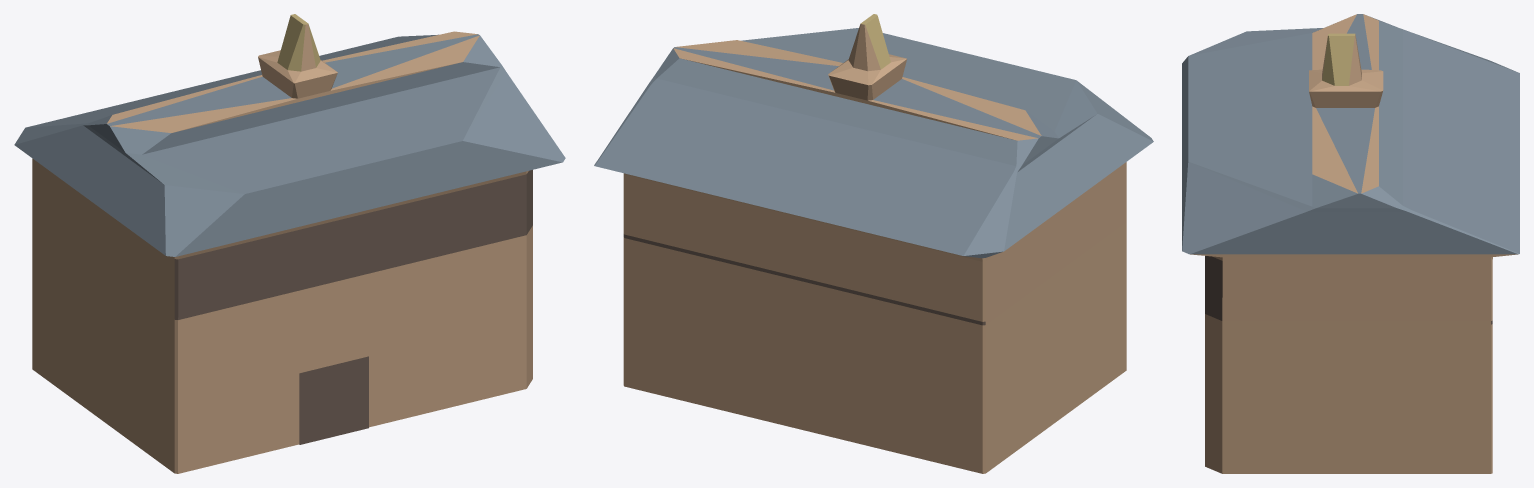
The model's file is loin.glb.
3 renders of one model, left to right at view 1: azimuth 30°, elevation 25°; view 2: azimuth 150°, elevation 25°; view 3: azimuth 270°, elevation 25°, orthographic.
Visible parts, largest first — view 1: loin; view 2: loin; view 3: loin.
Part boxes in pixels (bbox=[...]): loin: bbox=[14, 14, 565, 473]; loin: bbox=[594, 14, 1153, 473]; loin: bbox=[1182, 14, 1519, 473].
Size of the model in its own units: 0.9996 by 0.8537 by 0.7358.
